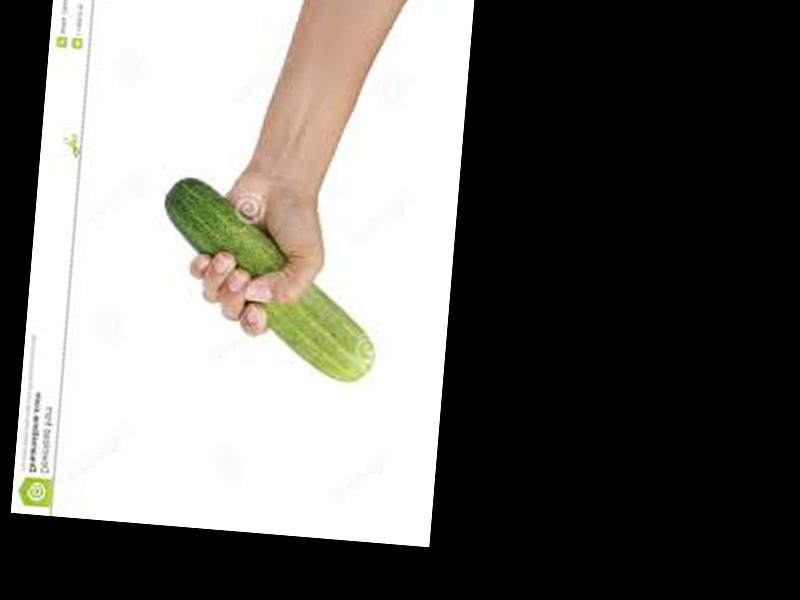Cucumber: (151, 171, 386, 383)
